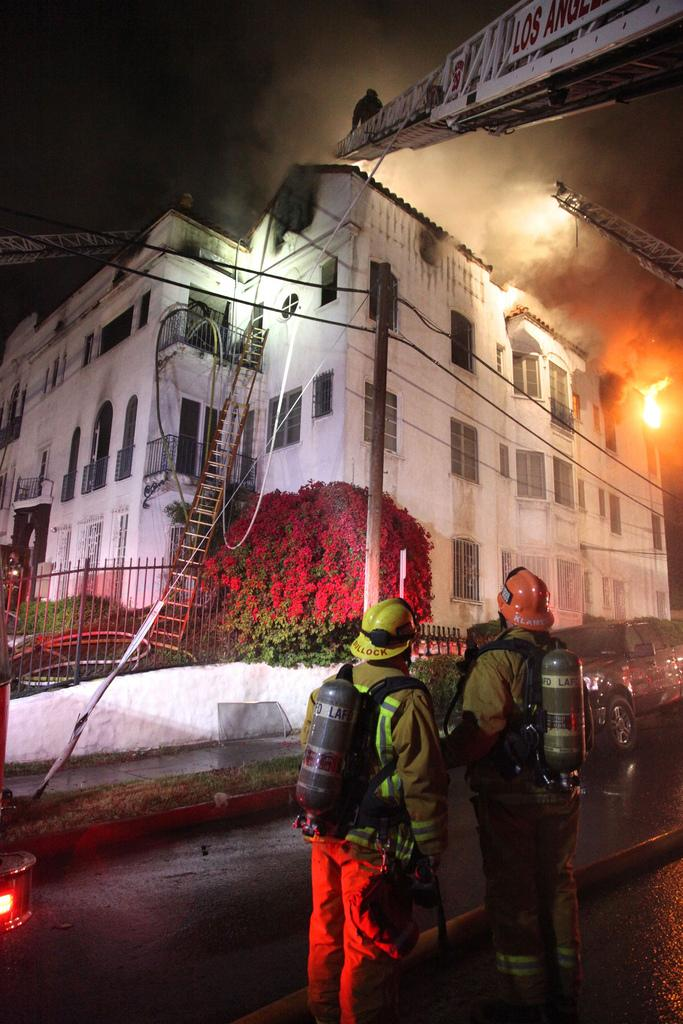fire: (635, 362, 678, 455)
smoke: (442, 145, 540, 222)
